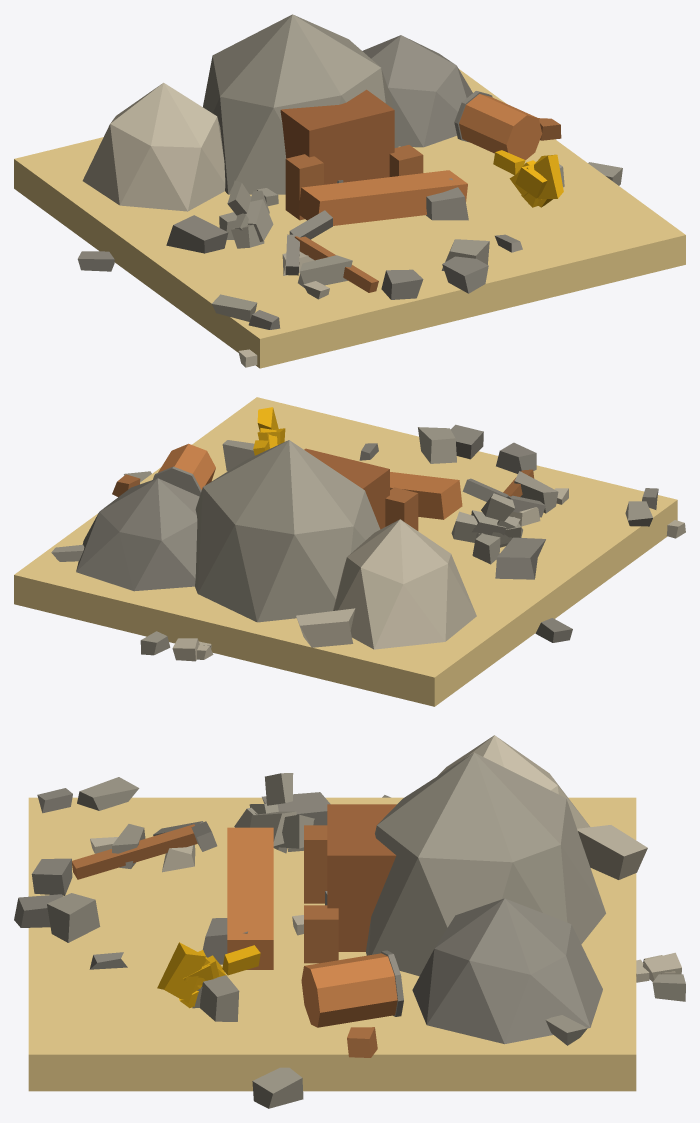
Rendered from mine_t1_v1_dmg2.glb.
3 views of the same model, one above another, from view 1: azimuth 30°, elevation 25°; view 2: azimuth 150°, elevation 25°; view 3: azimuth 270°, elevation 25° (orthographic). The views are drawn at different scales.
Visible parts, largest first — view 1: mine_t1_v1_dmg2; view 2: mine_t1_v1_dmg2; view 3: mine_t1_v1_dmg2.
Part boxes in pixels (x1,y1,x2,y2): mine_t1_v1_dmg2: (14, 14, 685, 368); mine_t1_v1_dmg2: (14, 397, 685, 706); mine_t1_v1_dmg2: (14, 735, 685, 1108).
Size of the model in its own units: 0.7044 by 0.2293 by 0.6636.
Materials: 1 (1 with a texture image).
